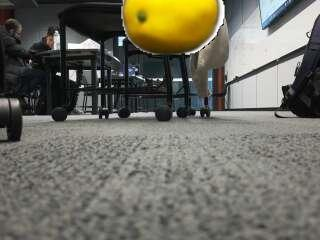lemon: (123, 0, 218, 53)
